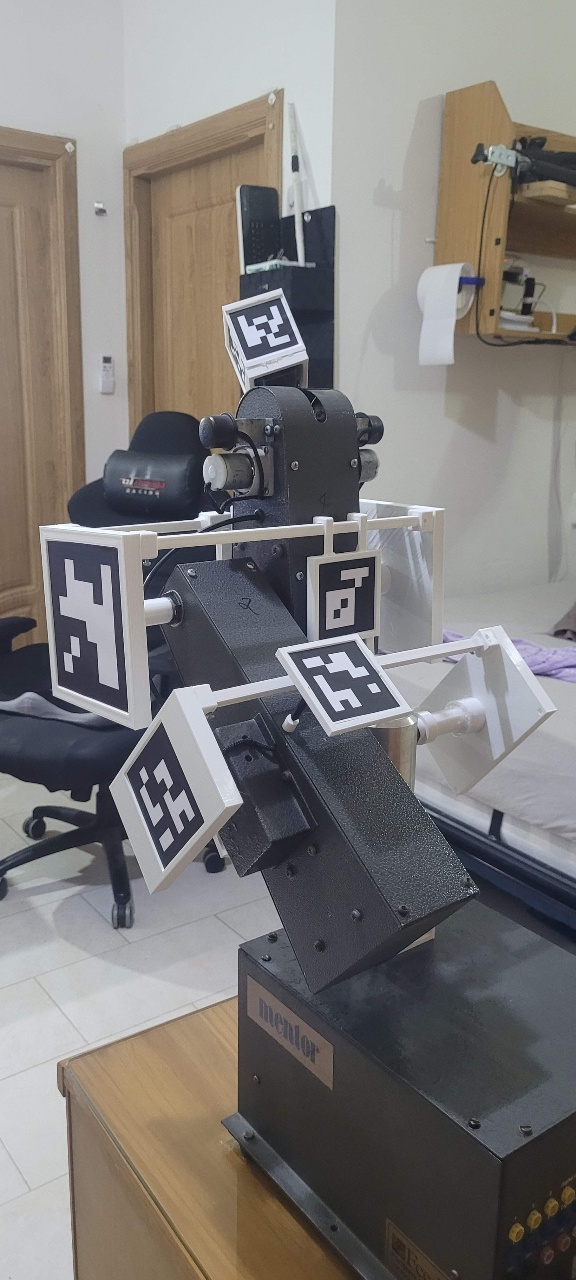Robot: (36, 286, 556, 997)
